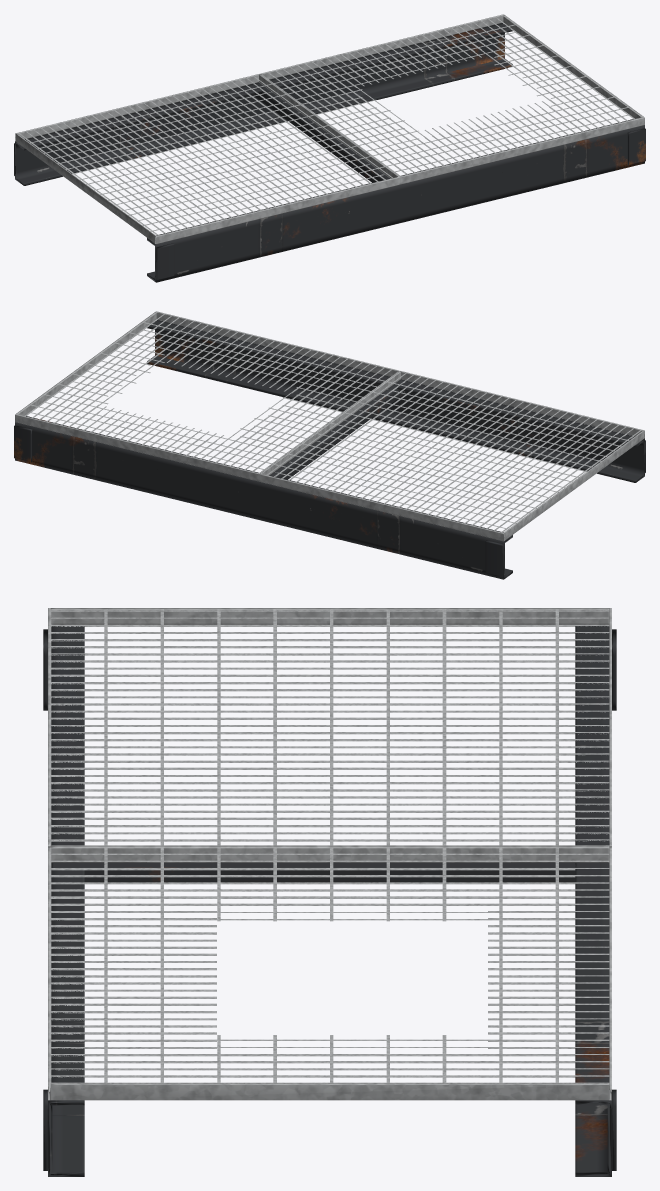
File: SM_IK_Catwalk_200_Damaged_LOD1.fbx
The picture shows the model from 3 angles, top to bottom: view 1: azimuth 30°, elevation 25°; view 2: azimuth 150°, elevation 25°; view 3: azimuth 270°, elevation 25°; orthographic projection. The views are drawn at different scales.
Parts seen in each view (by area): view 1: SM_IK_Catwalk_200_Damaged_LOD1; view 2: SM_IK_Catwalk_200_Damaged_LOD1; view 3: SM_IK_Catwalk_200_Damaged_LOD1.
Boxes of the visible parts, x1,y1,x2,y2 form: SM_IK_Catwalk_200_Damaged_LOD1: [14, 14, 645, 282]; SM_IK_Catwalk_200_Damaged_LOD1: [14, 311, 645, 579]; SM_IK_Catwalk_200_Damaged_LOD1: [43, 608, 616, 1176].
Size of the model in its own units: 200 by 102 by 18.
